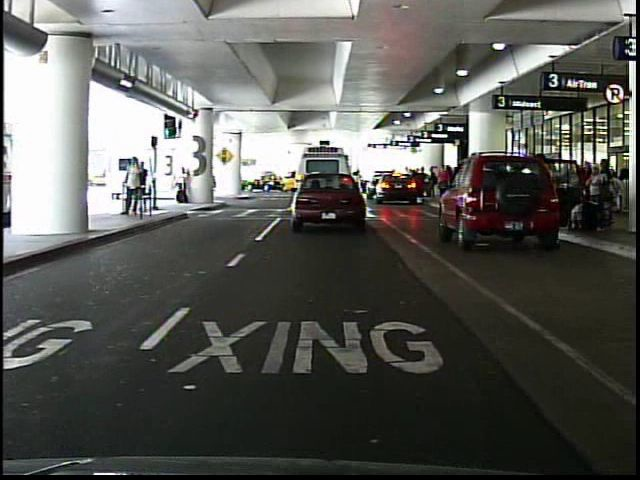person: (530, 152, 562, 234), (120, 153, 144, 221), (137, 160, 154, 219), (173, 167, 193, 208), (436, 164, 453, 201)
